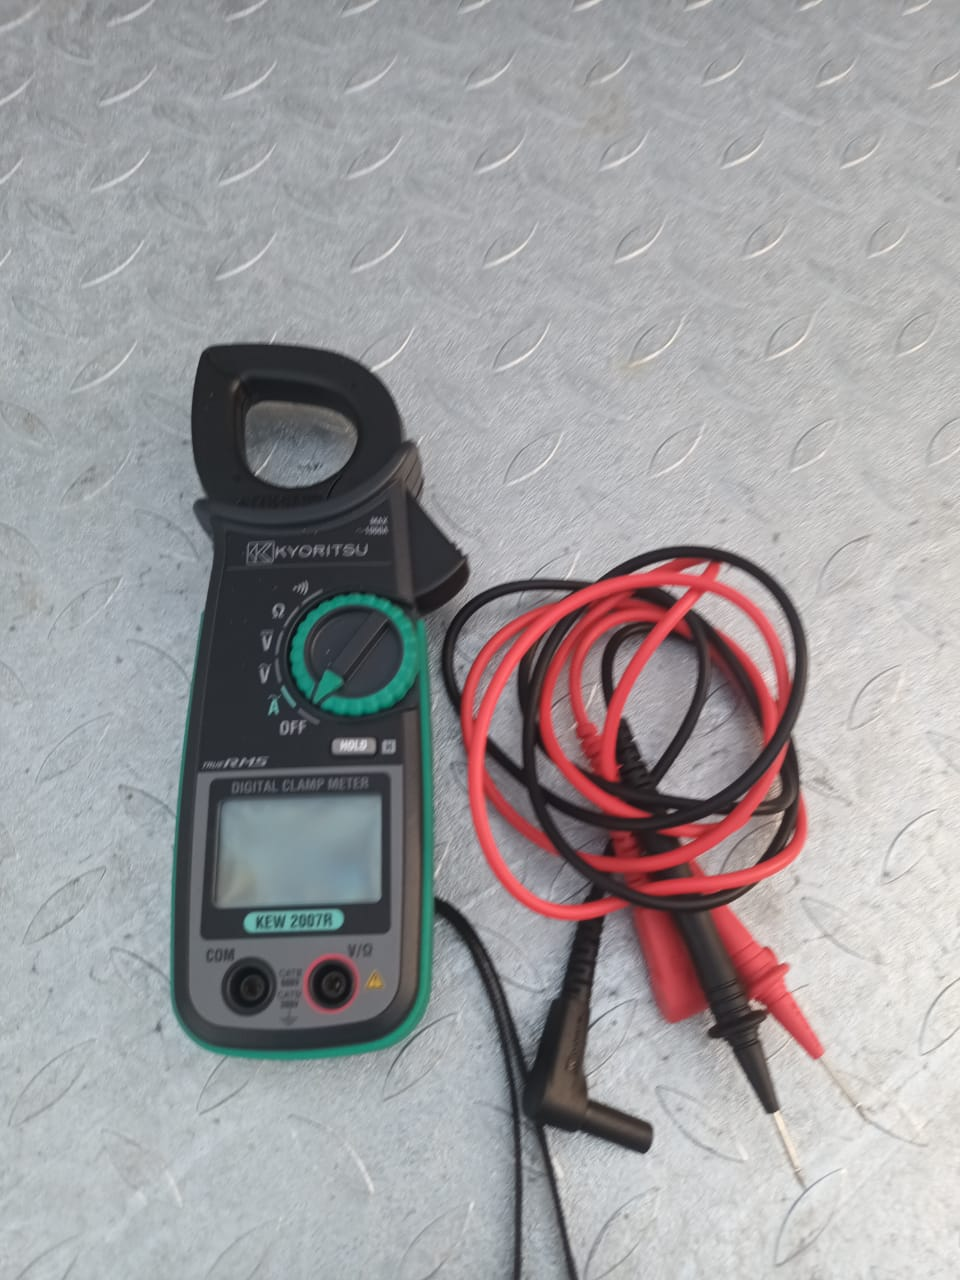TANG_AMPERE: (163, 339, 473, 1055)
